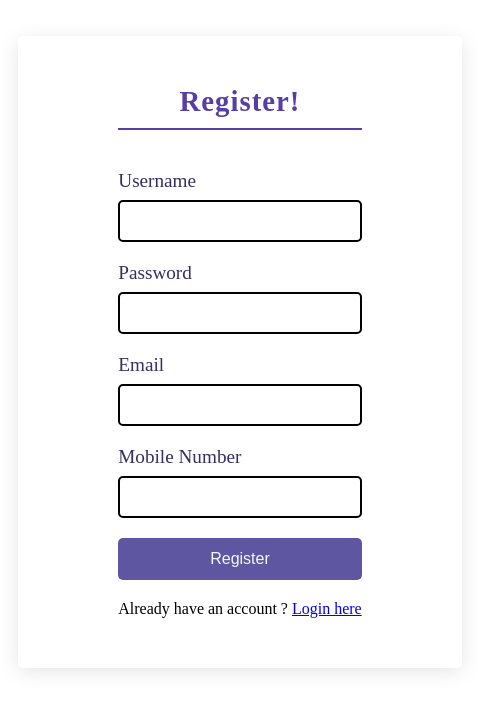
Tests related to the LoginPage › should shows error messages on submitting with empty fields
Click the button "Register" at (240,559), box [118,538,362,580]
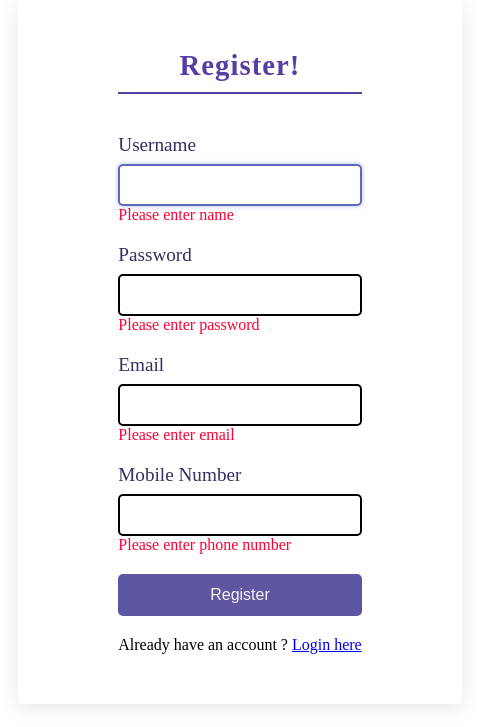
Expected: the text "Please enter name" is shown, [118,206,234,223]
Expected: the text "Please enter password" is shown, [118,316,260,333]
Expected: the text "Please enter email" is shown, [118,426,235,443]
